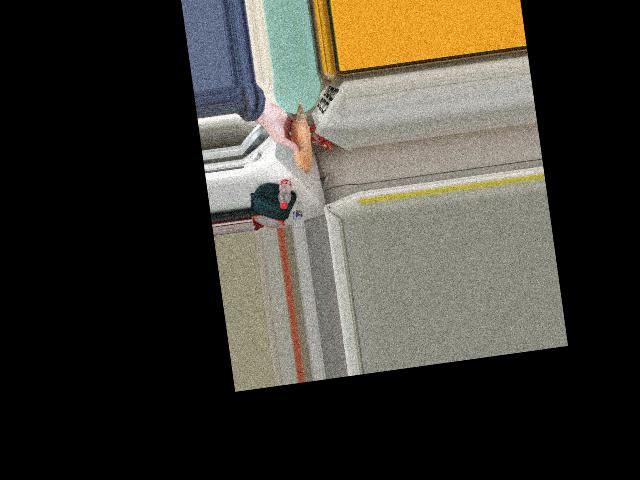sweet_potato: (285, 107, 314, 166)
